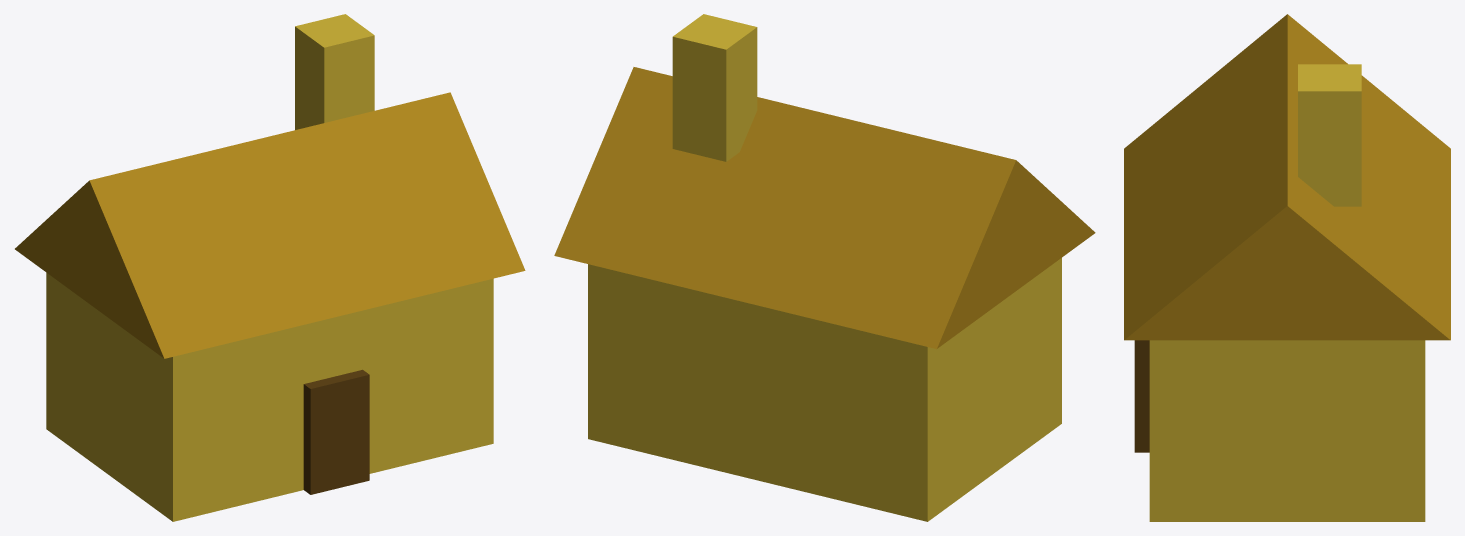
File: mark_medium.glb
3 views of the same model, side by side, from view 1: azimuth 30°, elevation 25°; view 2: azimuth 150°, elevation 25°; view 3: azimuth 270°, elevation 25° (orthographic). The views are drawn at different scales.
Parts seen in each view (by area): view 1: mark_medium; view 2: mark_medium; view 3: mark_medium.
Part boxes in pixels (bbox=[...]): mark_medium: bbox=[15, 14, 525, 521]; mark_medium: bbox=[554, 14, 1095, 521]; mark_medium: bbox=[1124, 14, 1450, 521].
Bounding box in the file's own units: 0.214 × 0.21 × 0.154.
